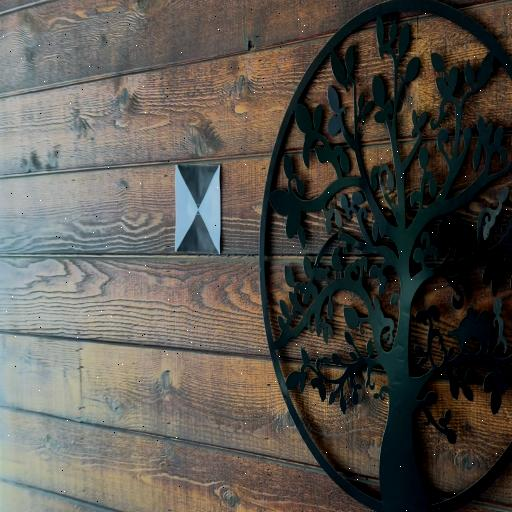target: (175, 166, 221, 254)
